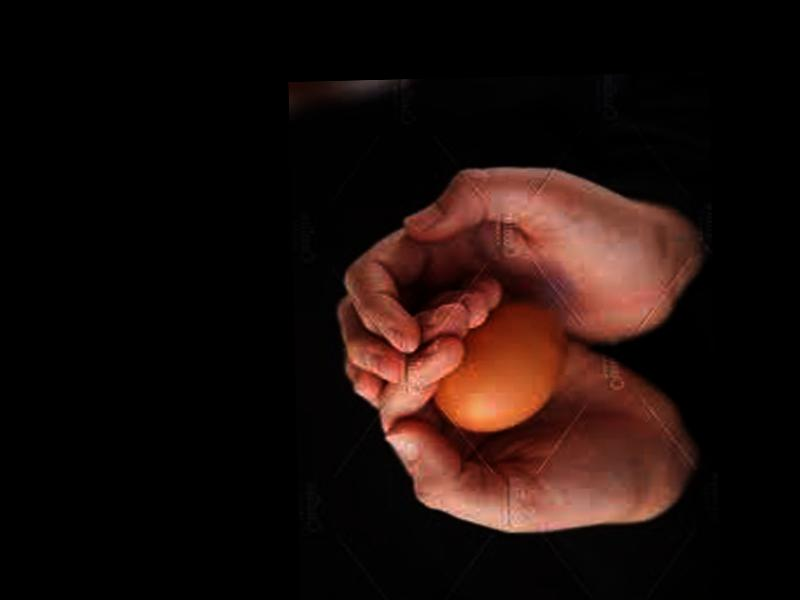Eggs: (435, 293, 569, 434)
